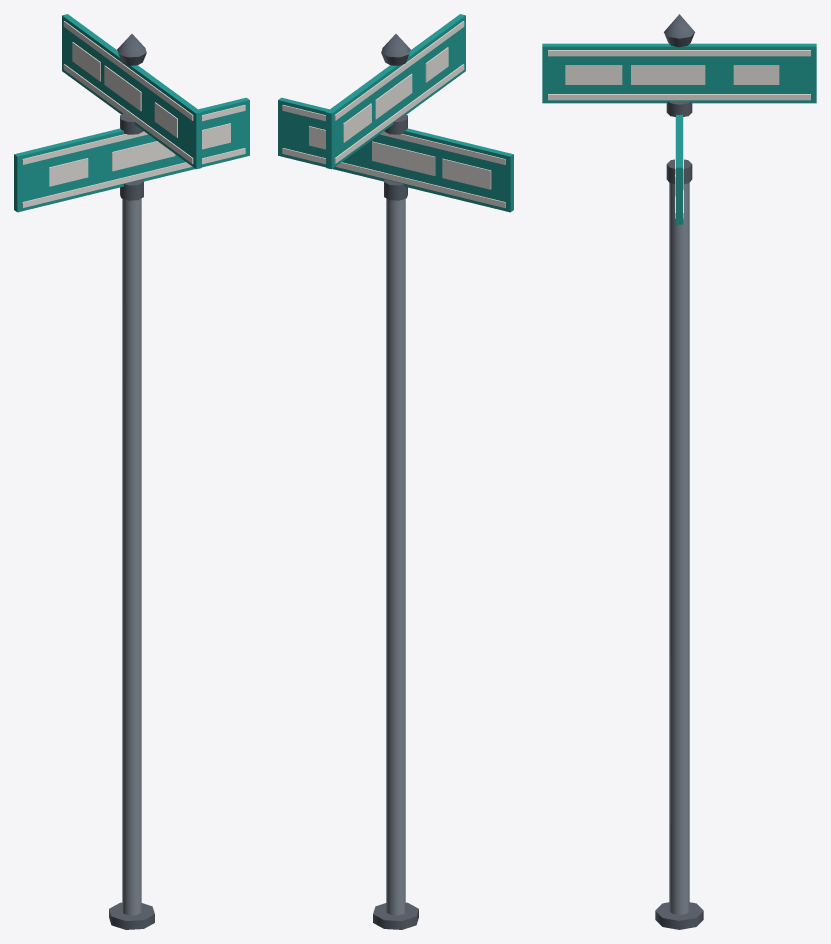
File: sign_street.glb
3 renders of one model, left to right at view 1: azimuth 30°, elevation 25°; view 2: azimuth 150°, elevation 25°; view 3: azimuth 270°, elevation 25°, orthographic. The views are drawn at different scales.
Parts seen in each view (by area): view 1: sign_street; view 2: sign_street; view 3: sign_street.
Part boxes in pixels (bbox=[...]): sign_street: bbox=[14, 14, 249, 929]; sign_street: bbox=[278, 14, 513, 929]; sign_street: bbox=[542, 14, 816, 929].
Size of the model in its own units: 0.96 by 3.5 by 0.96.
